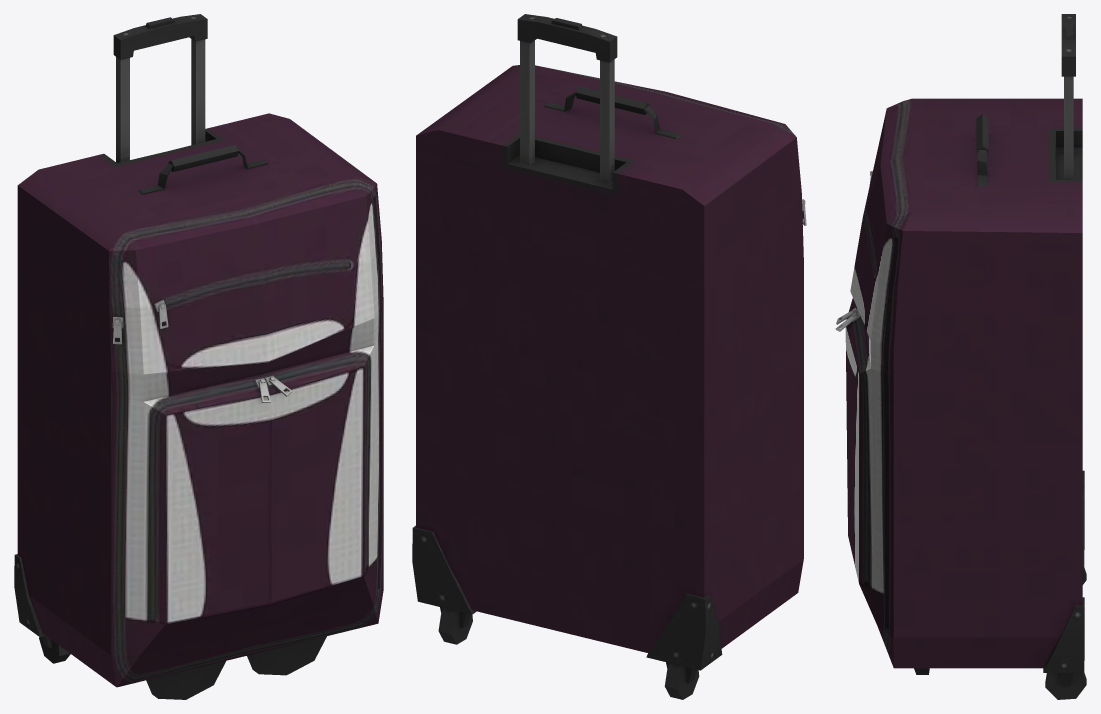
The model's file is ezEfa_eupwK.glb.
The picture shows the model from 3 angles, left to right: view 1: azimuth 30°, elevation 25°; view 2: azimuth 150°, elevation 25°; view 3: azimuth 270°, elevation 25°; orthographic projection. The views are drawn at different scales.
Parts seen in each view (by area): view 1: Luggage_mesh; view 2: Luggage_mesh; view 3: Luggage_mesh.
Part boxes in pixels (bbox=[...]): Luggage_mesh: bbox=[14, 14, 383, 699]; Luggage_mesh: bbox=[412, 14, 806, 699]; Luggage_mesh: bbox=[835, 14, 1086, 699].
Size of the model in its own units: 0.4744 by 1 by 0.3704.
Materials: 1 (1 with a texture image).
